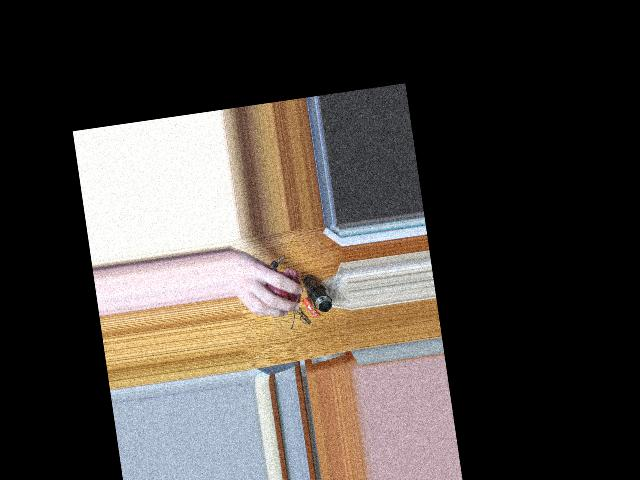onion: (256, 264, 296, 310)
